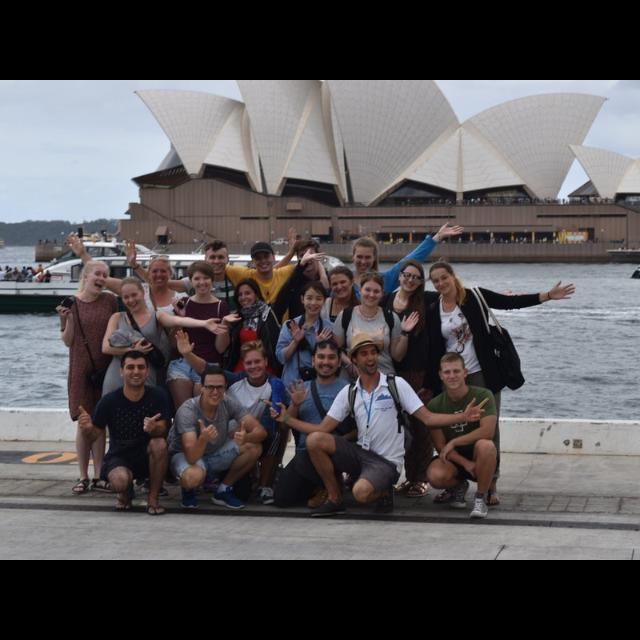head: (310, 339, 342, 377), (439, 352, 469, 392), (198, 368, 228, 408), (351, 339, 381, 377), (120, 351, 150, 389), (241, 344, 271, 381), (82, 260, 110, 296), (301, 280, 329, 316), (204, 241, 232, 277), (121, 276, 147, 314), (353, 236, 379, 274), (358, 274, 387, 308), (428, 262, 457, 296), (398, 262, 426, 292), (189, 263, 215, 295), (235, 280, 261, 312), (296, 240, 320, 272), (148, 259, 172, 289), (252, 245, 276, 275)
person: (121, 223, 303, 475), (405, 260, 579, 512), (261, 331, 491, 521), (373, 258, 529, 500), (326, 219, 468, 481), (58, 233, 198, 492), (191, 240, 333, 482), (98, 276, 230, 498), (324, 270, 422, 500), (166, 328, 290, 506), (162, 258, 244, 496), (266, 236, 340, 477), (268, 336, 368, 514), (76, 350, 176, 518), (272, 280, 348, 496), (53, 260, 123, 494), (164, 365, 270, 511), (218, 275, 288, 491), (421, 350, 503, 522)
